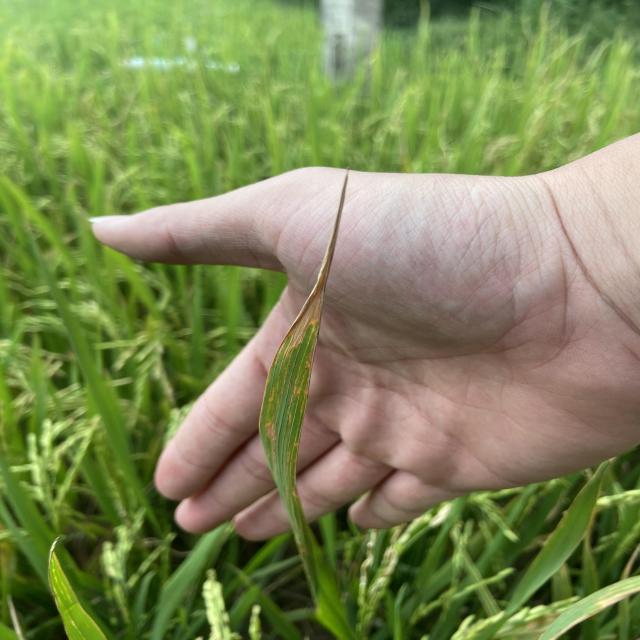Dom soc vi khuan: (290, 366, 308, 404), (265, 421, 277, 464), (283, 359, 291, 387), (285, 450, 290, 476), (269, 386, 274, 402), (288, 412, 291, 425)
